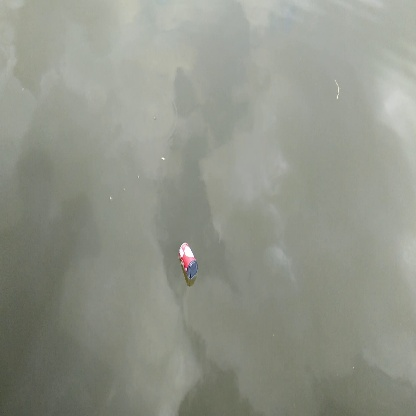bottle: (176, 239, 204, 283)
